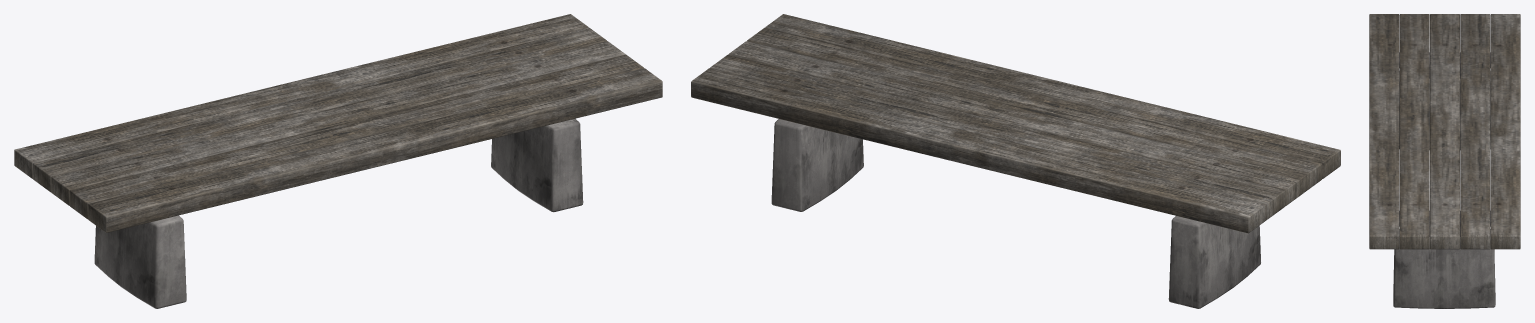
The model's file is Bench.fbx.
The picture shows the model from 3 angles, left to right: view 1: azimuth 30°, elevation 25°; view 2: azimuth 150°, elevation 25°; view 3: azimuth 270°, elevation 25°; orthographic projection. The views are drawn at different scales.
Visible parts, largest first — view 1: Bench; view 2: Bench; view 3: Bench.
Boxes of the visible parts, bbox=[...] form: Bench: bbox=[14, 14, 662, 308]; Bench: bbox=[691, 14, 1340, 308]; Bench: bbox=[1369, 14, 1520, 308].
Size of the model in its own units: 1.85 by 0.3799 by 0.5308.
